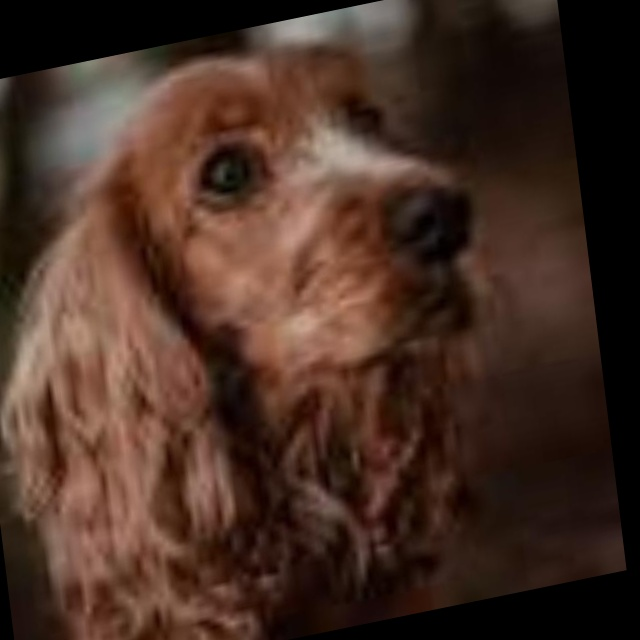dog: (0, 0, 550, 516)
